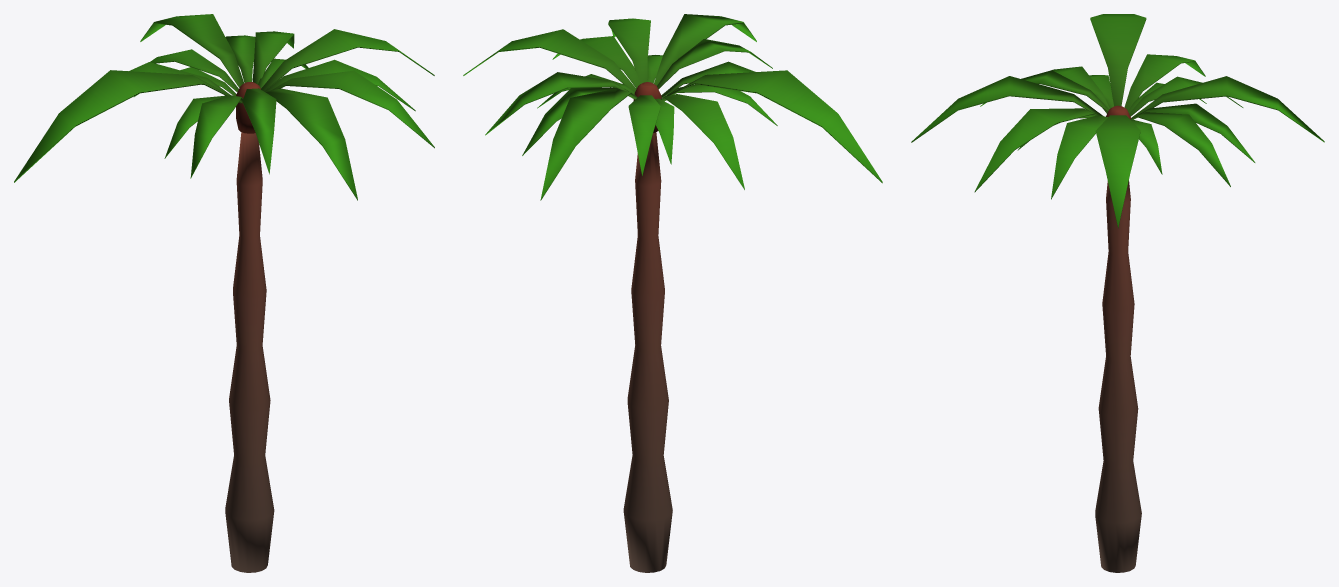
File: Palm Tree.fbx
3 renders of one model, left to right at view 1: azimuth 30°, elevation 25°; view 2: azimuth 150°, elevation 25°; view 3: azimuth 270°, elevation 25°, orthographic. The views are drawn at different scales.
Visible parts, largest first — view 1: Plane.008; view 2: Plane.008; view 3: Plane.008.
Part boxes in pixels (box(x1,y1,x2,y2)): Plane.008: box(14, 14, 434, 572); Plane.008: box(463, 14, 882, 572); Plane.008: box(911, 14, 1324, 572).
Size of the model in its own units: 554 by 649 by 496.
Materials: 15 (15 with a texture image).
